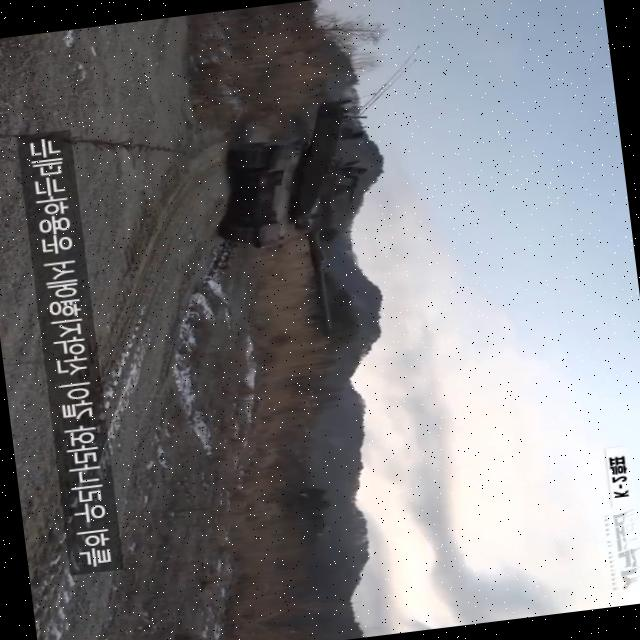korea tank: (190, 94, 396, 352)
